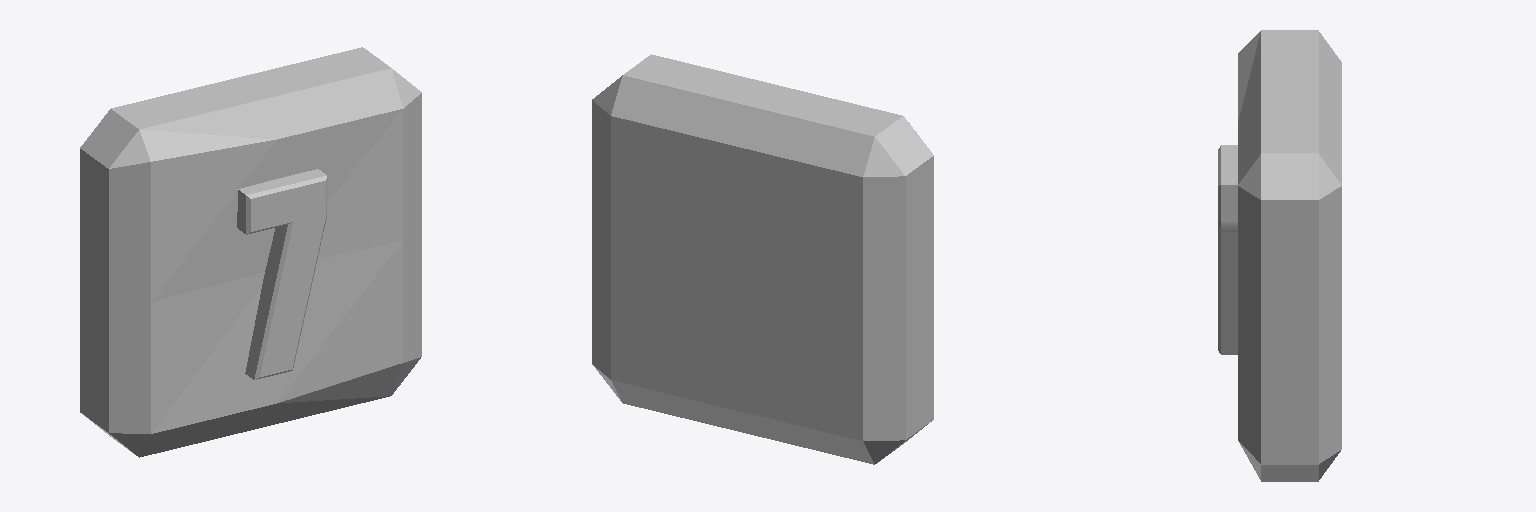
File: Lvl-7.obj
3 renders of one model, left to right at view 1: azimuth 30°, elevation 25°; view 2: azimuth 150°, elevation 25°; view 3: azimuth 270°, elevation 25°, orthographic.
Visible parts, largest first — view 1: lvl-7_Cube.007; view 2: lvl-7_Cube.007; view 3: lvl-7_Cube.007.
Part boxes in pixels (x1,y1,x2,y2): lvl-7_Cube.007: (80,47,421,457); lvl-7_Cube.007: (592,54,933,464); lvl-7_Cube.007: (1218,30,1341,481).
Bounding box in the file's own units: 1.28 × 1.28 × 0.4393.